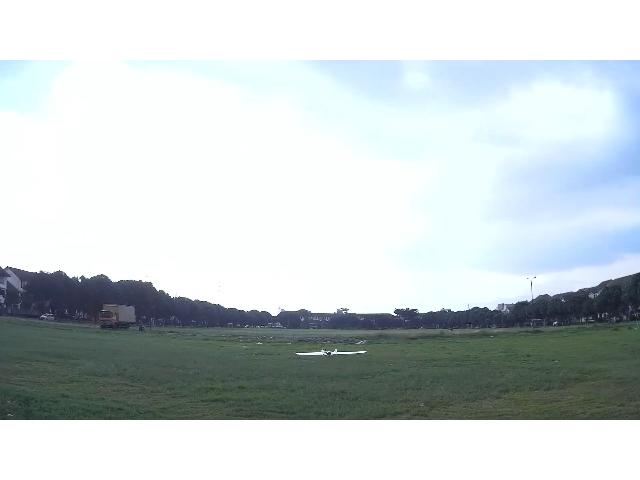Anti-Drone: (294, 350, 368, 356)
